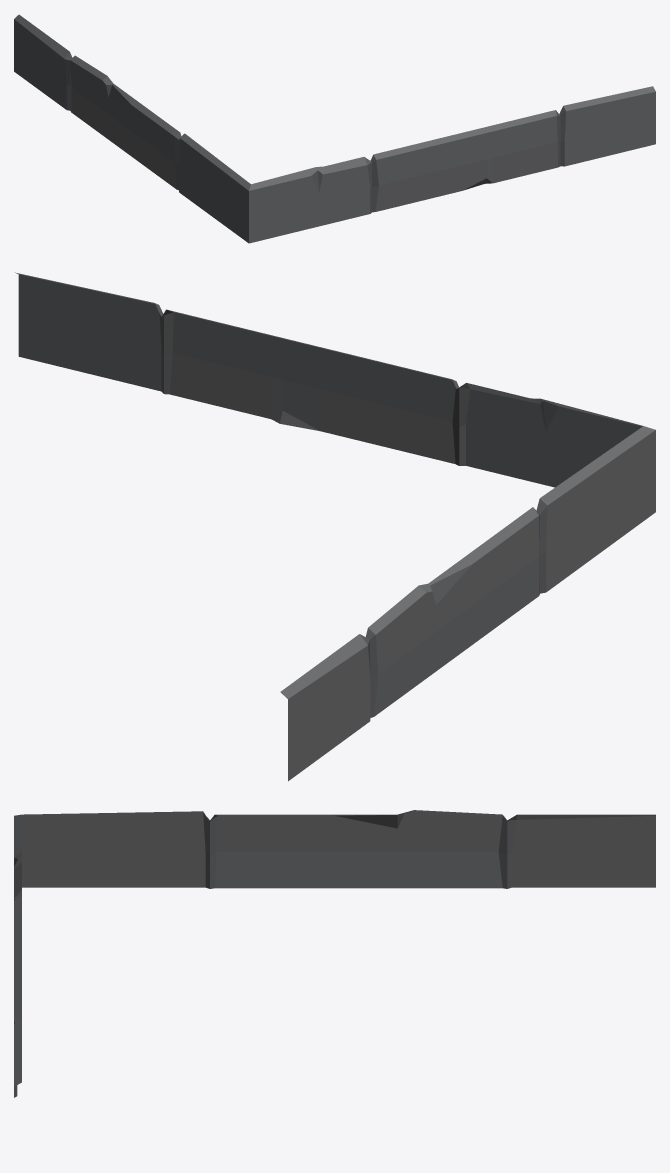
The model's file is SM_Foundation_Corner_Out.gltf.
The picture shows the model from 3 angles, top to bottom: view 1: azimuth 30°, elevation 25°; view 2: azimuth 150°, elevation 25°; view 3: azimuth 270°, elevation 25°; orthographic projection. The views are drawn at different scales.
Visible parts, largest first — view 1: SM_Foundation_Corner_Out; view 2: SM_Foundation_Corner_Out; view 3: SM_Foundation_Corner_Out.
Part boxes in pixels (x1,y1,x2,y2): SM_Foundation_Corner_Out: [14, 14, 655, 243]; SM_Foundation_Corner_Out: [15, 272, 655, 781]; SM_Foundation_Corner_Out: [14, 810, 655, 1097].
Size of the model in its own units: 3.24 by 0.4506 by 3.24.
Materials: 1 (1 with a texture image).
